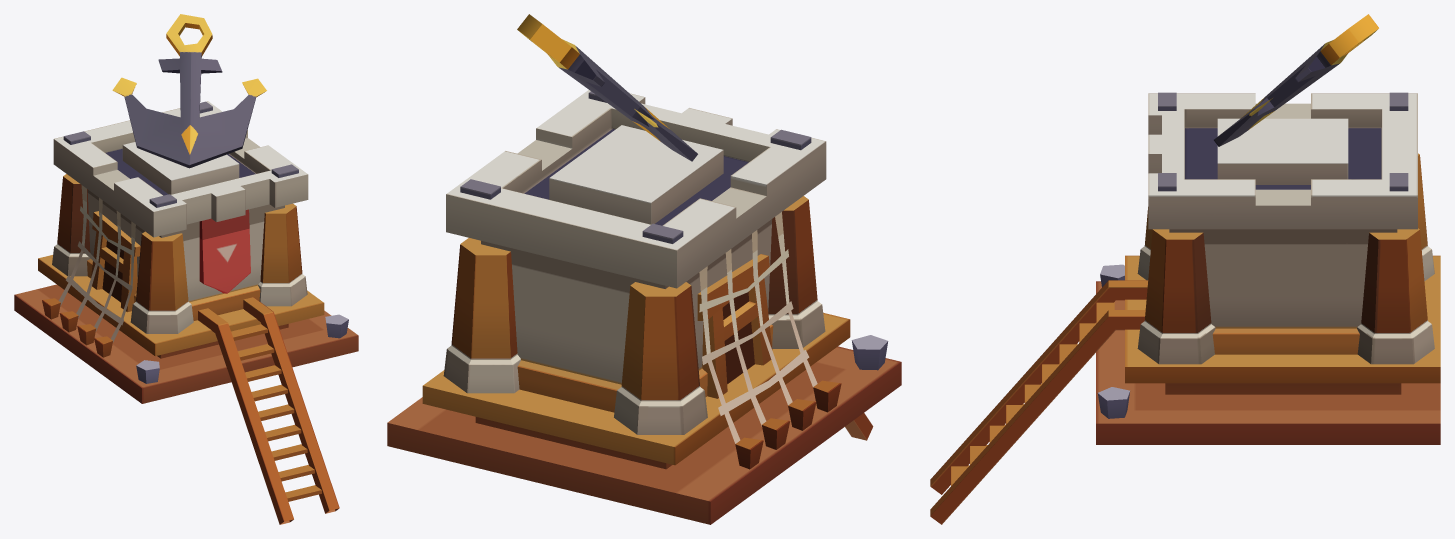
File: Pirate_Ship_We_CommandModule_001.FBX
3 views of the same model, side by side, from view 1: azimuth 30°, elevation 25°; view 2: azimuth 150°, elevation 25°; view 3: azimuth 270°, elevation 25° (orthographic). The views are drawn at different scales.
Parts seen in each view (by area): view 1: Pirate_Ship_We_CommandModule_001; view 2: Pirate_Ship_We_CommandModule_001; view 3: Pirate_Ship_We_CommandModule_001.
Part boxes in pixels (<box>): Pirate_Ship_We_CommandModule_001: <box>14,14,358,524</box>; Pirate_Ship_We_CommandModule_001: <box>387,14,901,524</box>; Pirate_Ship_We_CommandModule_001: <box>930,14,1440,524</box>.
Bounding box in the file's own units: 6.33 × 10.64 × 9.59.
